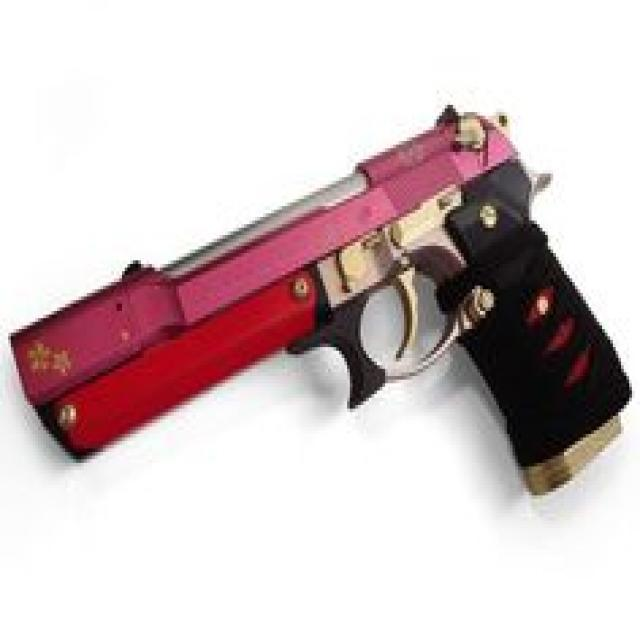semi automatic: (2, 29, 640, 599)
